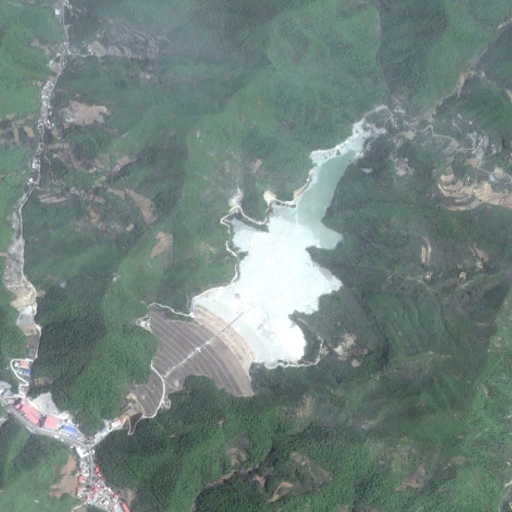tp: (128, 149, 362, 419)
